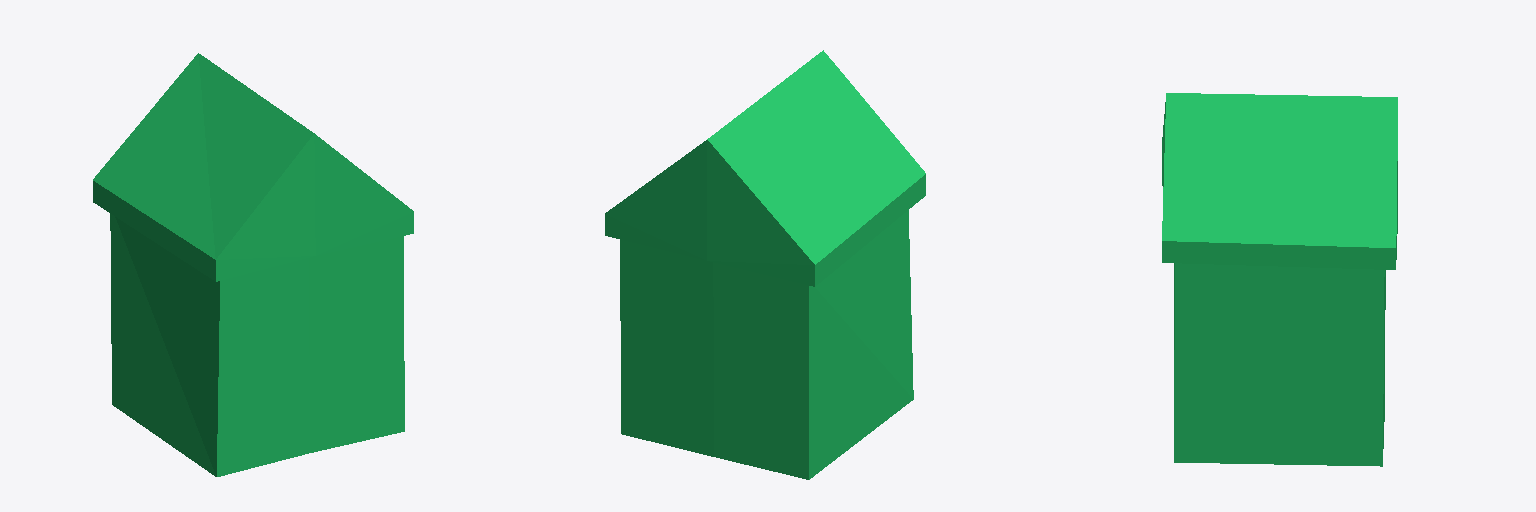
3 renders of one model, left to right at view 1: azimuth 30°, elevation 25°; view 2: azimuth 150°, elevation 25°; view 3: azimuth 270°, elevation 25°, orthographic.
Visible parts, largest first — view 1: Cube; view 2: Cube; view 3: Cube.
Part boxes in pixels (bbox=[...]): Cube: bbox=[93, 53, 413, 476]; Cube: bbox=[605, 50, 925, 479]; Cube: bbox=[1162, 93, 1397, 466].
Size of the model in its own units: 0.0598 by 0.0889 by 0.0582.
Materials: 1 (1 with a texture image).